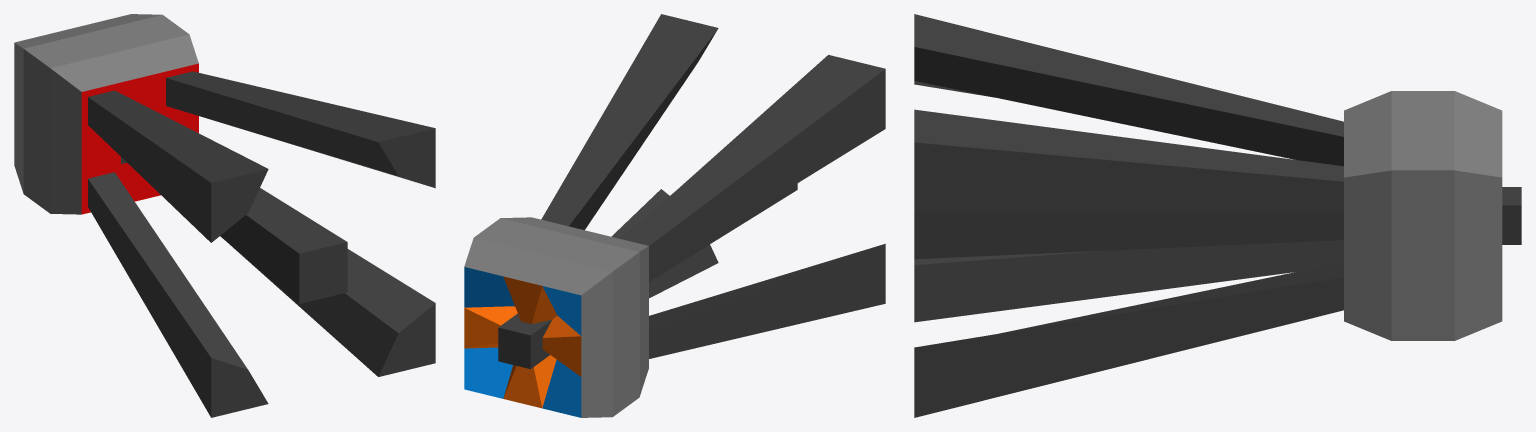
Rendered from Lvl7Enemy.fbx.
The picture shows the model from 3 angles, left to right: view 1: azimuth 30°, elevation 25°; view 2: azimuth 150°, elevation 25°; view 3: azimuth 270°, elevation 25°; orthographic projection. The views are drawn at different scales.
Parts seen in each view (by area): view 1: Lvl7Enemy; view 2: Lvl7Enemy, Lvl7EnemyDecor; view 3: Lvl7Enemy.
Part boxes in pixels (<box>): Lvl7Enemy: <box>14,14,435,417</box>; Lvl7Enemy: <box>464,14,885,417</box>; Lvl7EnemyDecor: <box>464,276,581,408</box>; Lvl7Enemy: <box>914,14,1521,417</box>.
Bounding box in the file's own units: 230 × 230 × 460.
